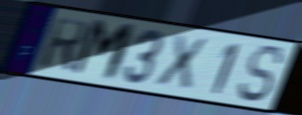1: (211, 42, 240, 96)
3: (122, 28, 166, 86)
M: (67, 16, 139, 84)
R: (36, 15, 90, 75)
S: (236, 43, 287, 104)
X: (153, 33, 210, 91)
